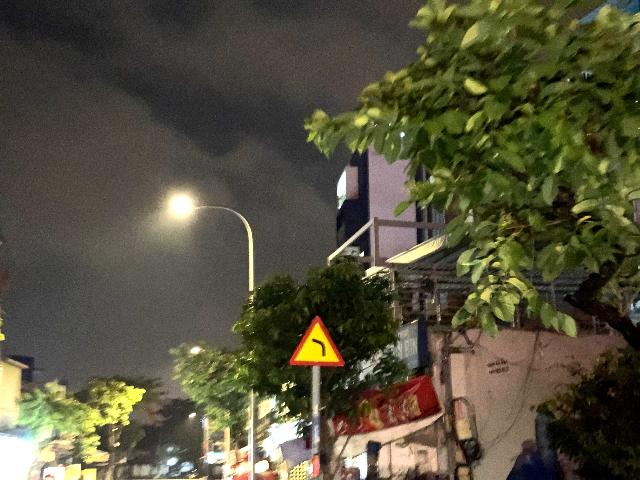cho-ngoat-nguy-hiem-ben-trai: (289, 315, 345, 367)
